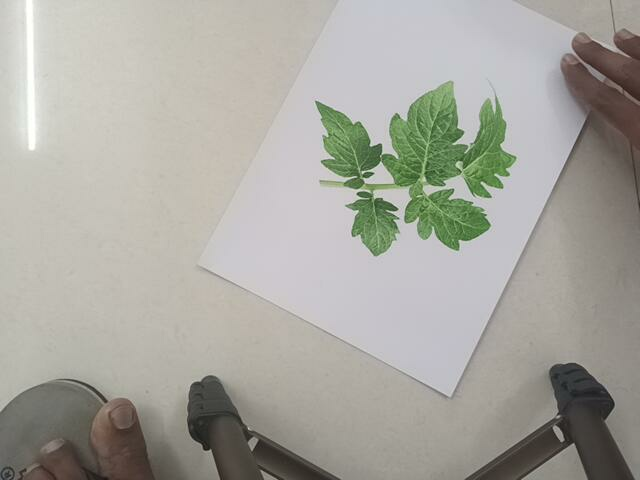Tomamto_Leaf_Healthy: (311, 96, 504, 260)
